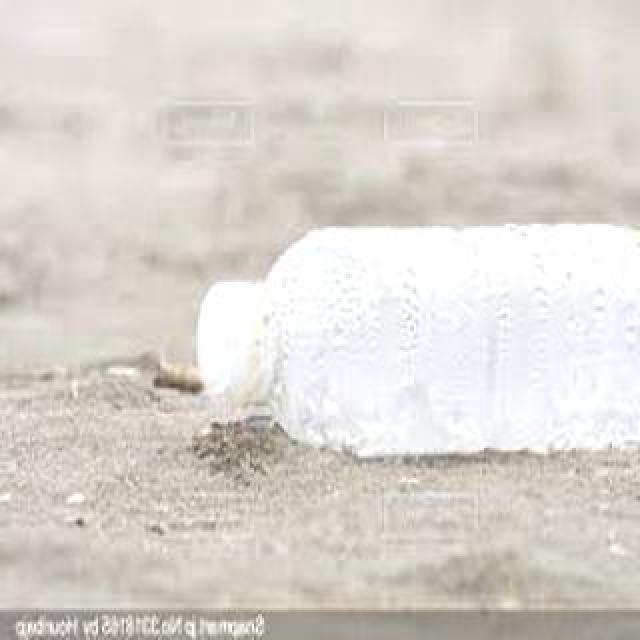Pet_Bottle: (200, 215, 640, 461)
